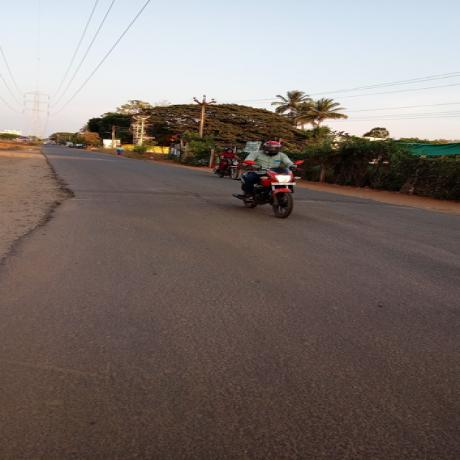Speed Bump: (64, 188, 232, 198), (295, 196, 407, 207)
